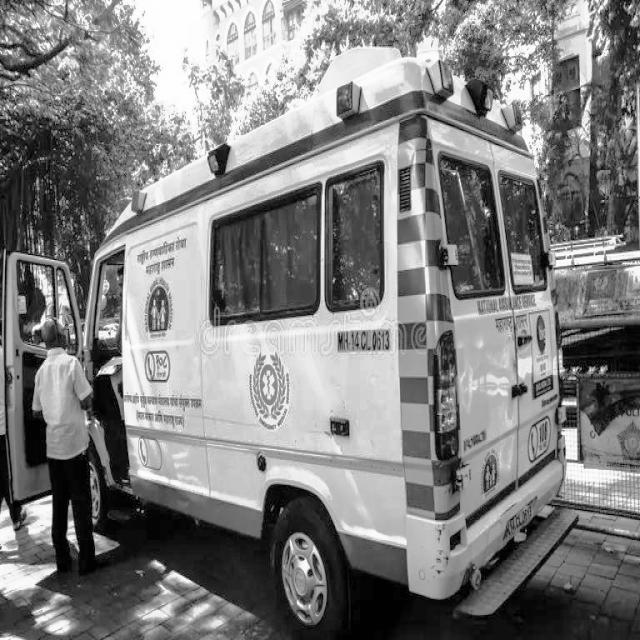Ambulance: (116, 44, 552, 582)
